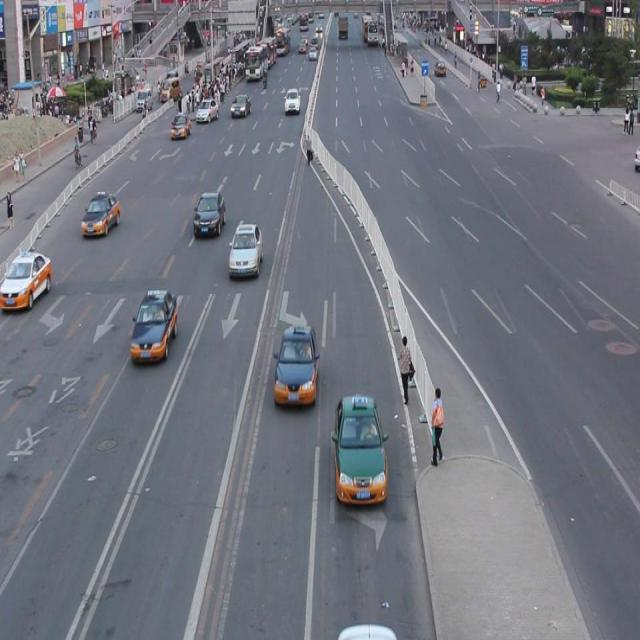car: (332, 392, 388, 506), (273, 322, 319, 408), (129, 288, 178, 363), (1, 250, 52, 311), (228, 222, 263, 277), (81, 191, 121, 239), (192, 190, 226, 238)
